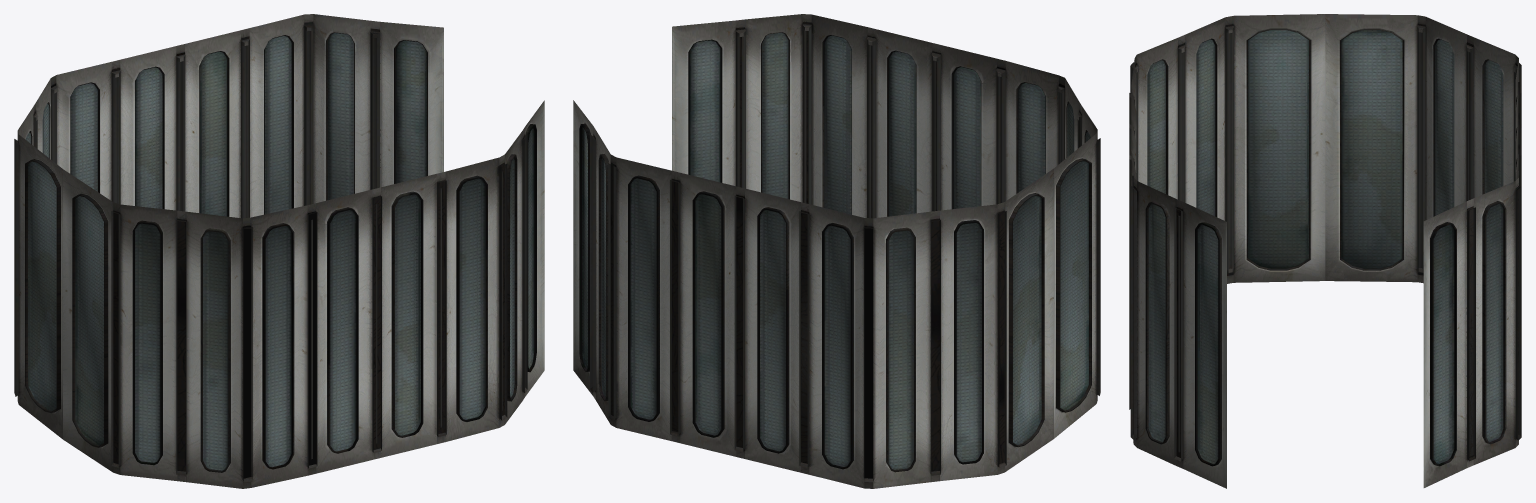
The model's file is elevator_shaft.glb.
3 renders of one model, left to right at view 1: azimuth 30°, elevation 25°; view 2: azimuth 150°, elevation 25°; view 3: azimuth 270°, elevation 25°, orthographic.
Parts seen in each view (by area): view 1: parts\smd\elevatorshaft_wall.smd; view 2: parts\smd\elevatorshaft_wall.smd; view 3: parts\smd\elevatorshaft_wall.smd.
Part boxes in pixels (<box>): parts\smd\elevatorshaft_wall.smd: <box>14,14,544,488</box>; parts\smd\elevatorshaft_wall.smd: <box>573,14,1100,488</box>; parts\smd\elevatorshaft_wall.smd: <box>1129,14,1521,488</box>.
Bounding box in the file's own units: 6.11 × 3.66 × 4.87.
Materials: 1 (1 with a texture image).
